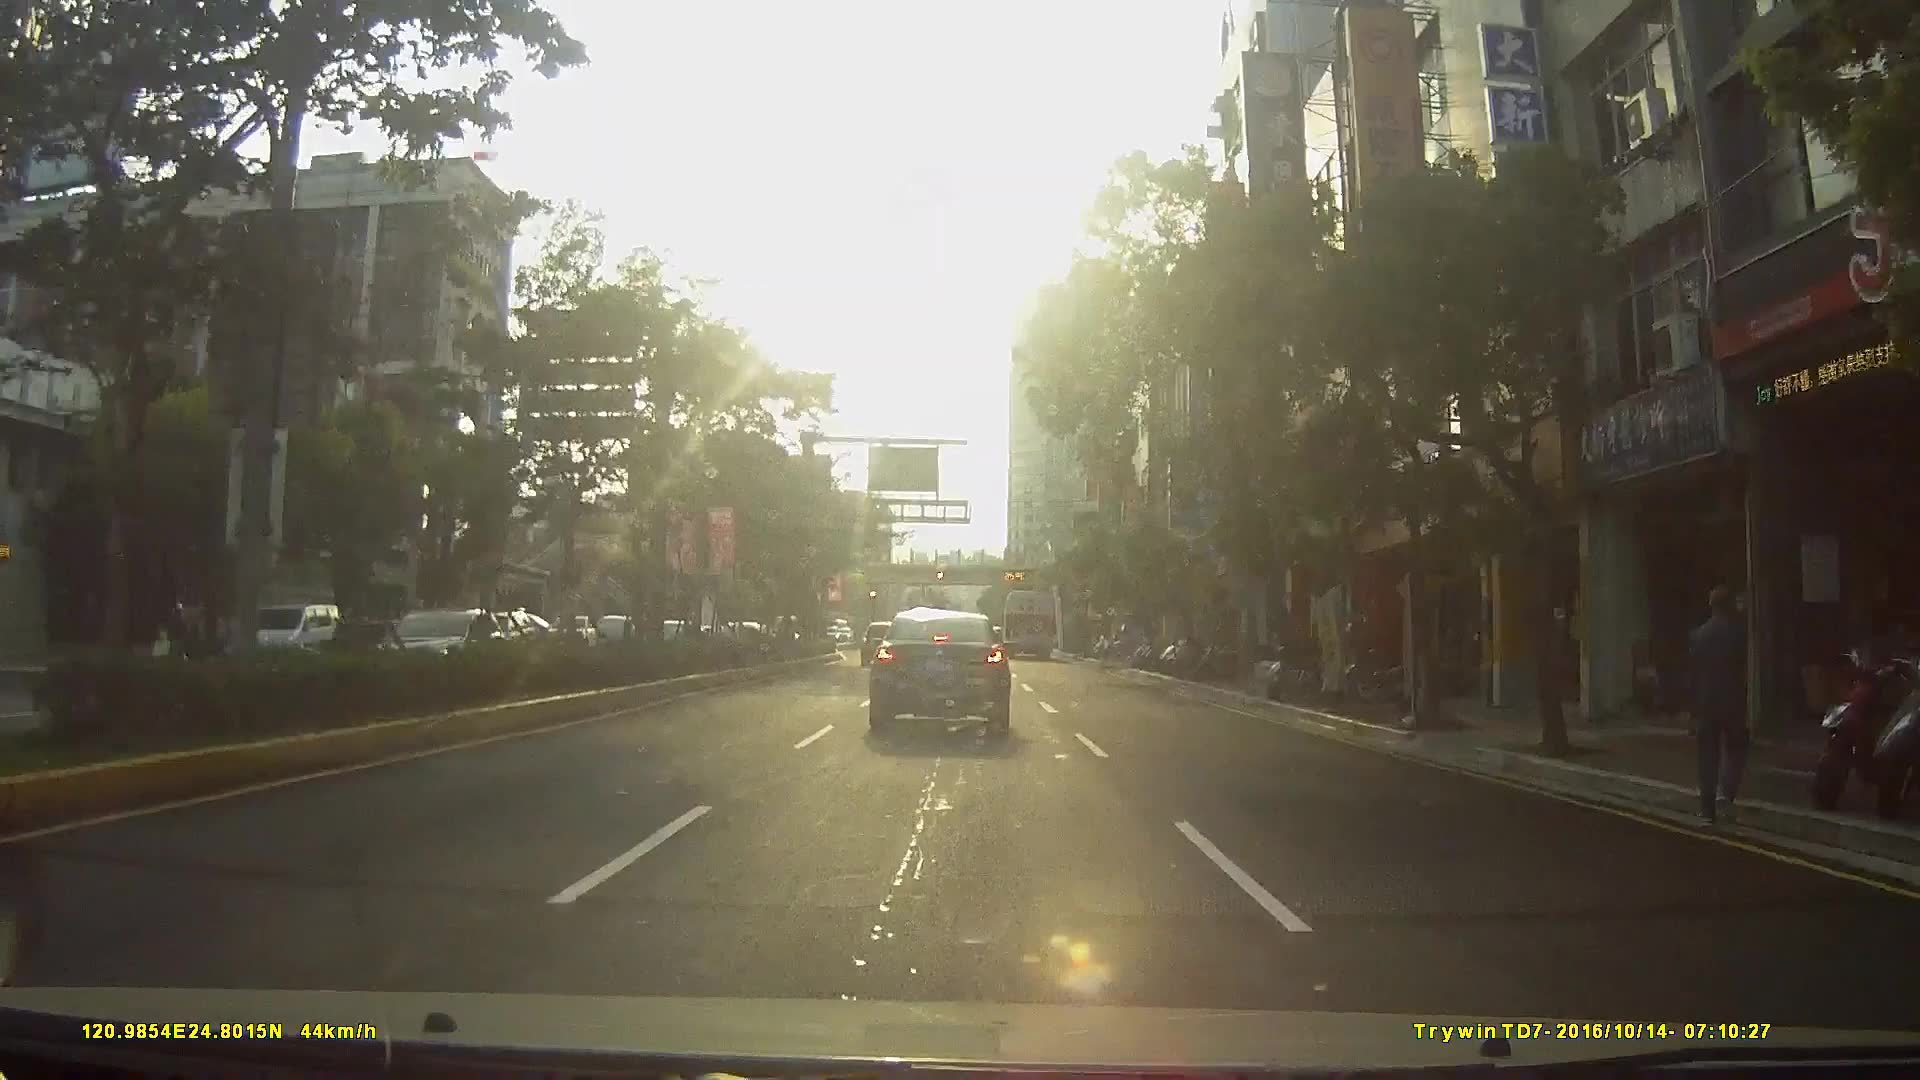pedestrian: (1684, 576, 1761, 830)
vehicle: (865, 602, 1012, 729), (374, 604, 514, 681), (226, 601, 342, 668), (998, 583, 1057, 652), (476, 608, 534, 649), (860, 619, 899, 661)
